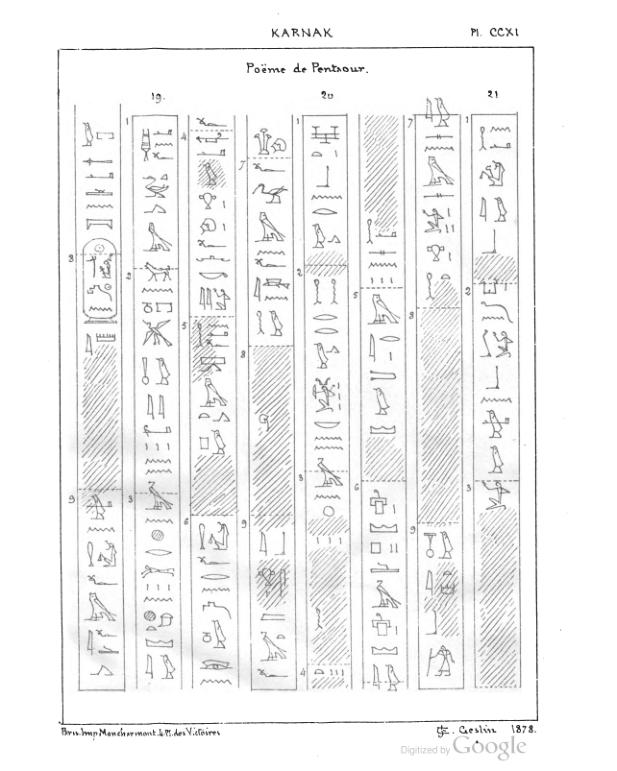circle: (80, 237, 119, 326)
